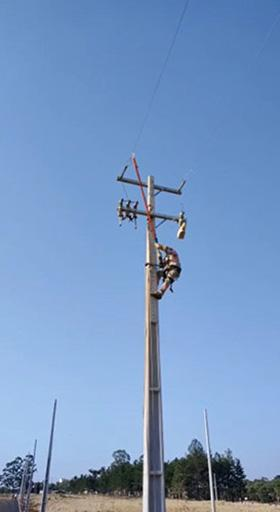Vara_Manobra: (131, 159, 164, 269)
